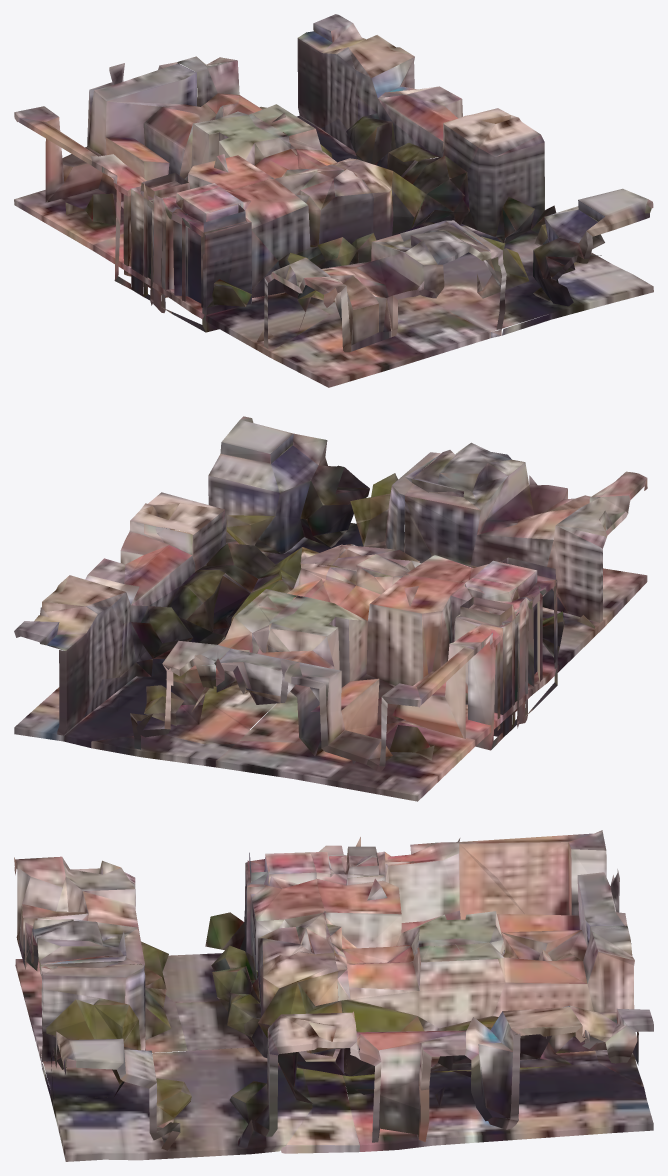
3 renders of one model, top to bottom at view 1: azimuth 30°, elevation 25°; view 2: azimuth 150°, elevation 25°; view 3: azimuth 270°, elevation 25°, orthographic. The views are drawn at different scales.
Visible parts, largest first — view 1: Mesh_0; view 2: Mesh_0; view 3: Mesh_0.
Part boxes in pixels (x1=…): Mesh_0: x1=14, y1=14, x2=653, y2=387; Mesh_0: x1=14, y1=416, x2=647, y2=801; Mesh_0: x1=14, y1=830, x2=653, y2=1161.
Size of the model in its own units: 133 by 41.99 by 165.
1 material, 1 textured.
